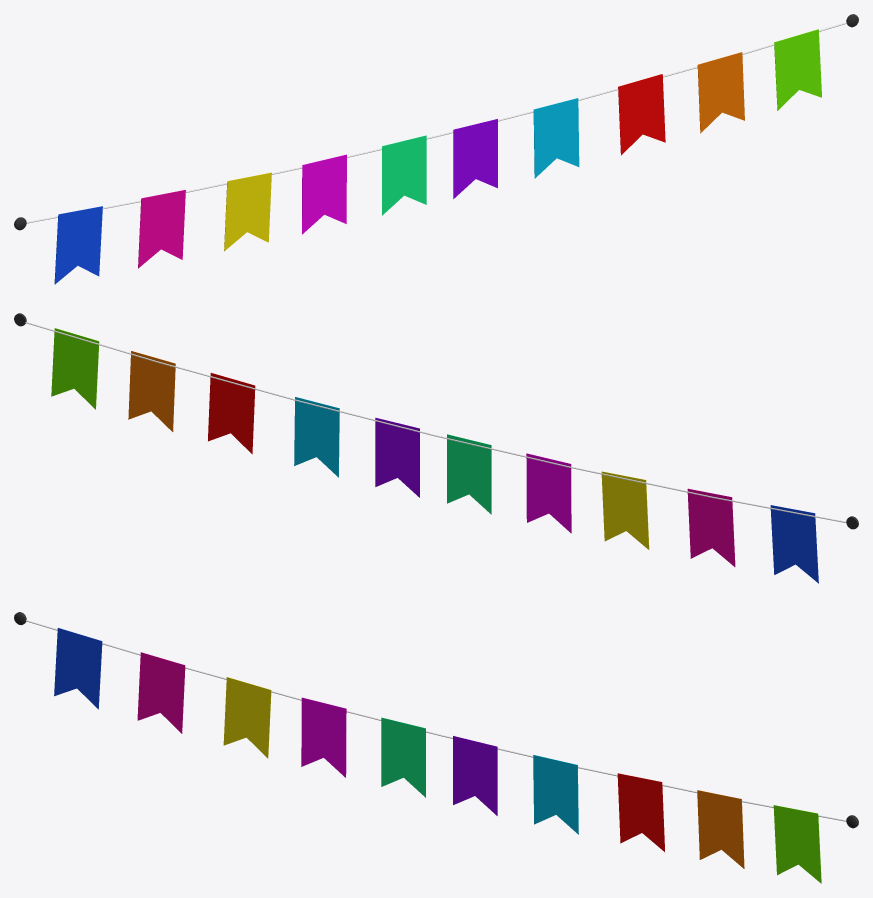
File: PartyHangings01A_6.FBX
The picture shows the model from 3 angles, top to bottom: view 1: azimuth 30°, elevation 25°; view 2: azimuth 150°, elevation 25°; view 3: azimuth 330°, elevation 25°; orthographic projection.
Visible parts, largest first — view 1: PartyHangings01A_6; view 2: PartyHangings01A_6; view 3: PartyHangings01A_6.
Boxes of the visible parts, <box> form: PartyHangings01A_6: <box>14,14,858,284</box>; PartyHangings01A_6: <box>14,313,858,583</box>; PartyHangings01A_6: <box>14,612,858,883</box>.
Size of what is drawn, in the model's own units: 2.03 by 0.1996 by 0.00687.
